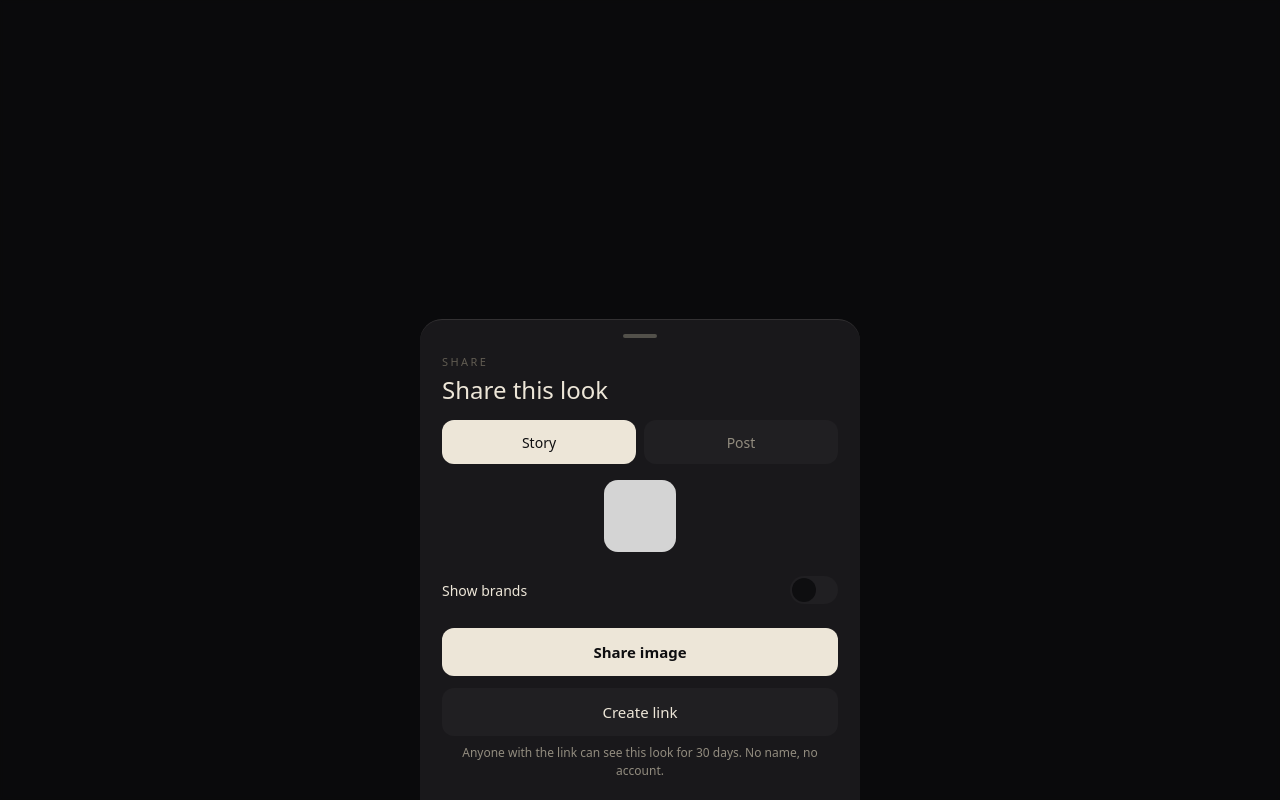
Test: the cap shows its message and uploads nothing
Expected: the button "Share image" is enabled, [442,628,838,676]
Click the button "Create link": (640, 712) [442,688,838,736]
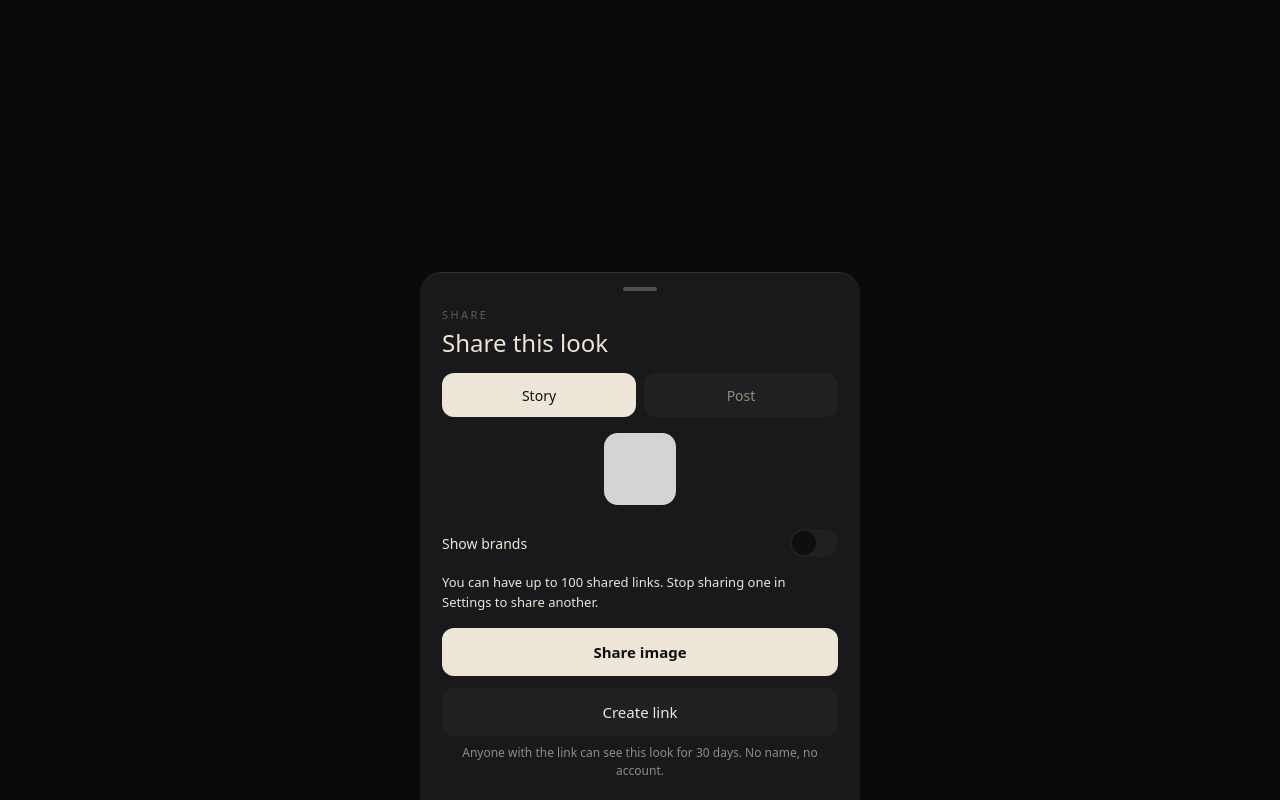
Now the text "up to 100 shared links" is shown, box [442,573,786,610]
